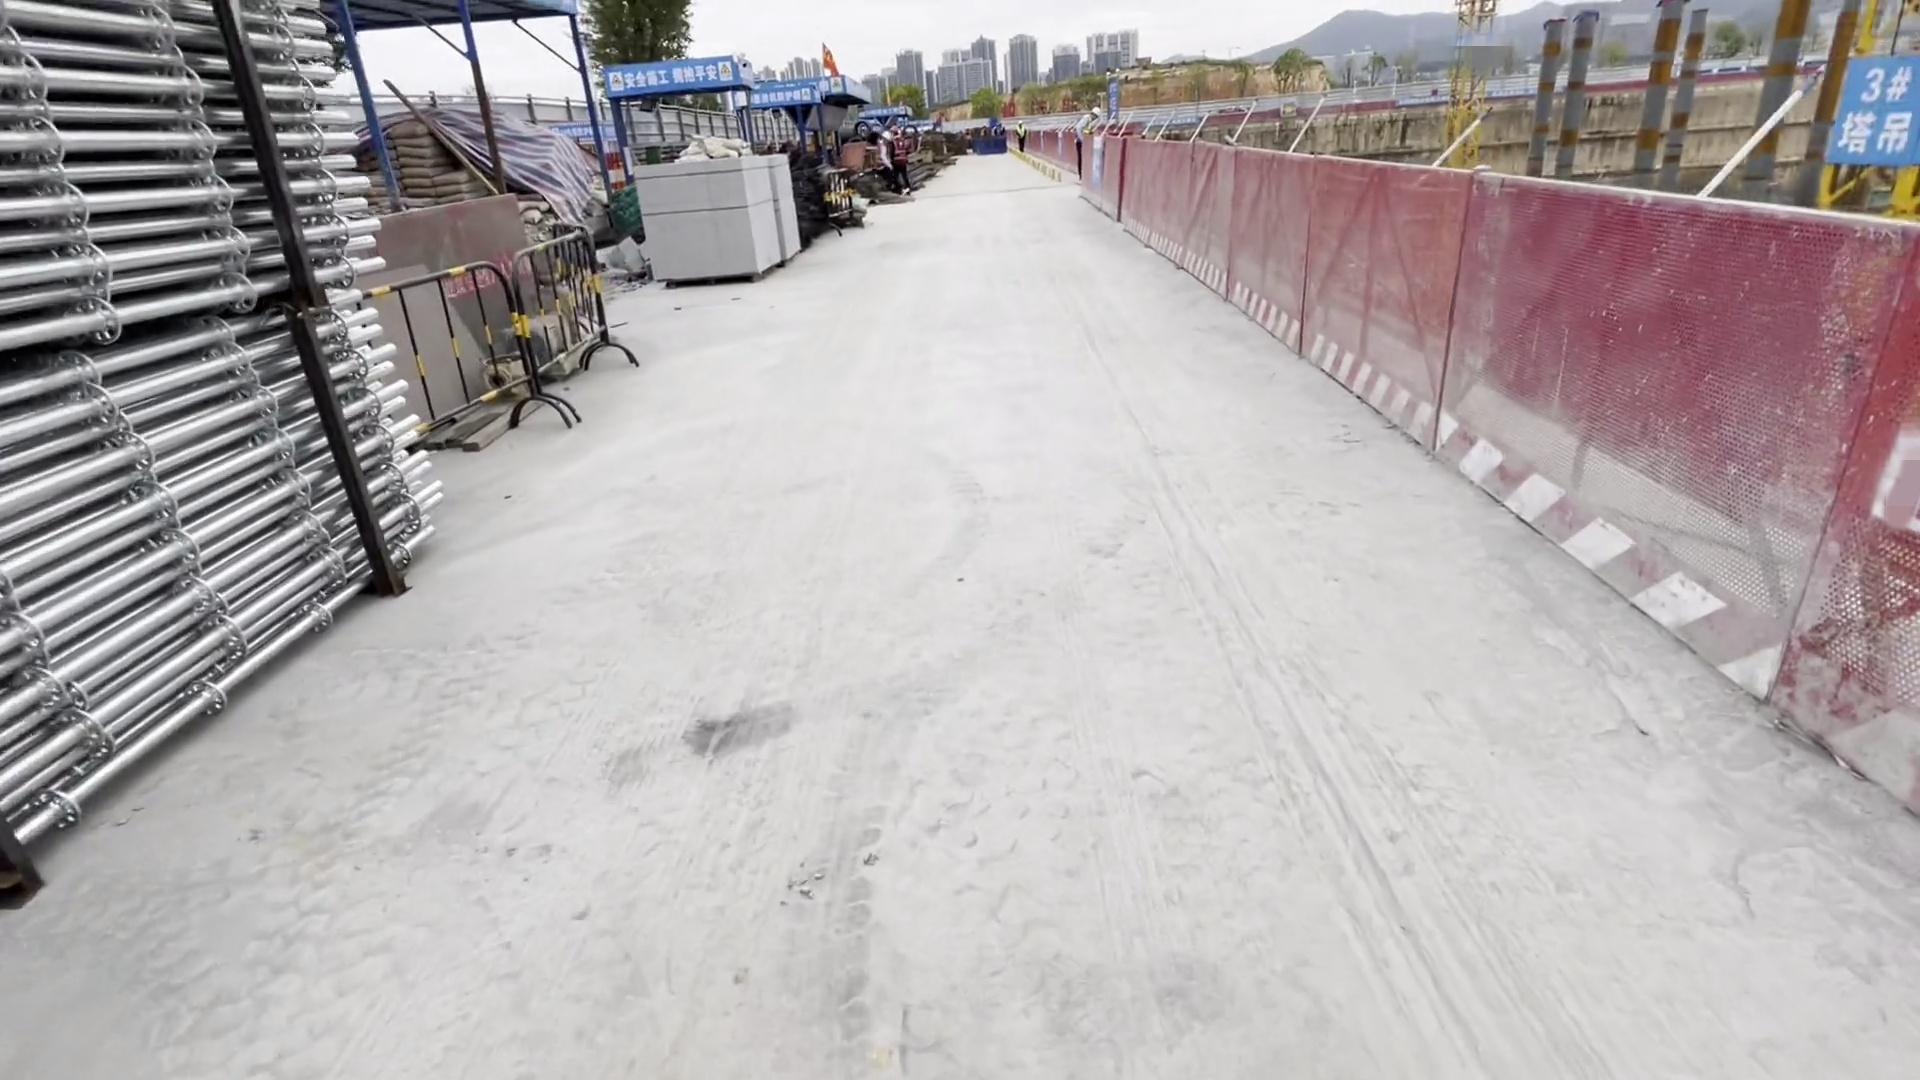brick: (620, 142, 811, 293)
fence: (1095, 136, 1920, 778)
helmet: (880, 130, 893, 143), (1092, 107, 1101, 116)
person: (1072, 104, 1098, 185), (869, 129, 892, 188), (892, 127, 909, 201), (1012, 120, 1028, 155)
scaffold: (1, 10, 434, 886)
slogan: (596, 55, 734, 95)
vest: (876, 143, 890, 167), (894, 141, 906, 162)
